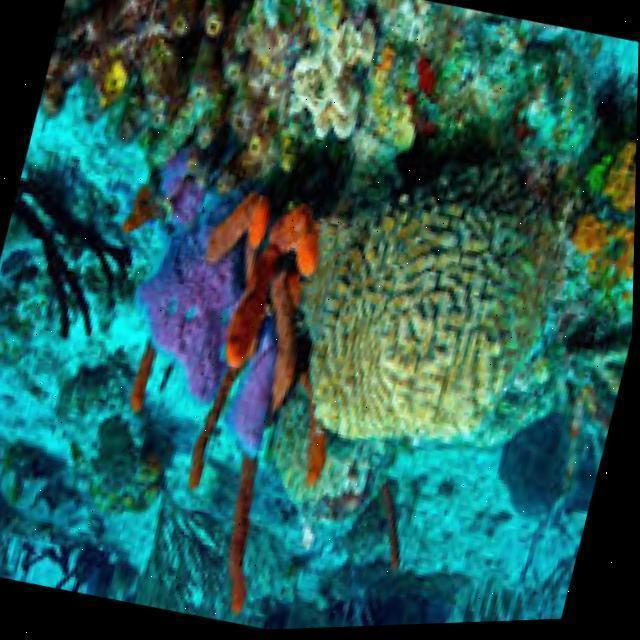Healthy Coral: (284, 123, 620, 501), (563, 111, 638, 309)
